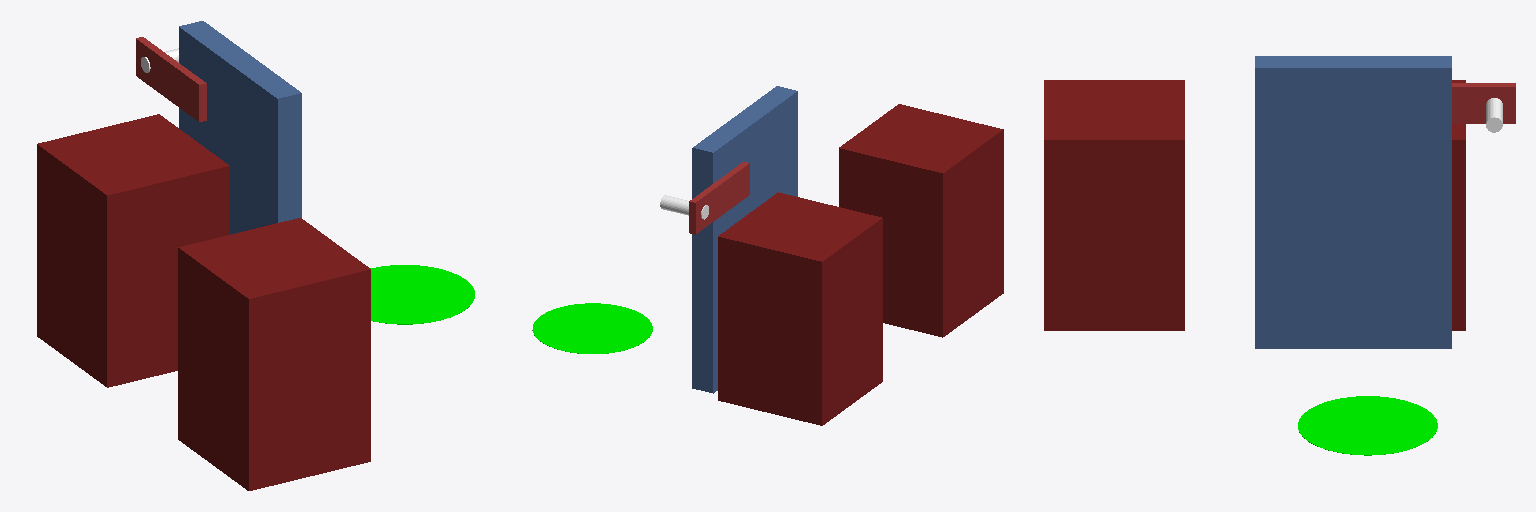
The robot description file, URDF, robot "room0":
<robot name="room0">
    <link name="base_link"/>

    <link name="room">
      <visual>
        <geometry>
          <mesh filename="[local-path]/rb_ws/robowflex/robowflex_dart/include/io/envs/room0/meshes/room.dae" scale=" 0.4 0.4 0.3"/>
        </geometry>
        <origin rpy="0 0 0" xyz="0 0 0"/>
      <material name="">
        <color rgba="0.94901960784 0.94901960784 0.94901960784 1"/>
      </material>
      </visual>

      <collision>
        <geometry>
          <mesh filename="[local-path]/rb_ws/robowflex/robowflex_dart/include/io/envs/room0/meshes/room.dae" scale=" 0.4 0.4 0.3"/>
        </geometry>
        <origin rpy="0 0 0" xyz="0 0 0"/>       
       </collision>
    </link>


        <link name="shelf">
      <visual>
        <geometry>
          <mesh filename="[local-path]/rb_ws/robowflex/robowflex_dart/include/io/envs/room0/meshes/shelf.dae" scale="0.042 0.05 0.04"/>
        </geometry>
        <origin rpy="0 0 0" xyz="0 0 0"/>
      
      <material name="">
        <color rgba="0.729411 0.549019 0.388235 1"/>
      </material>

      </visual>
      <collision>
        <geometry>
          <mesh filename="[local-path]/rb_ws/robowflex/robowflex_dart/include/io/envs/room0/meshes/shelf.dae" scale="0.042 0.05 0.04"/>
        </geometry>
        <origin rpy="0 0 0" xyz="0 0 0"/>       
       </collision>
    </link>


    <link name="desk">
      <visual>
        <geometry>
          <mesh filename="[local-path]/rb_ws/robowflex/robowflex_dart/include/io/envs/room0/meshes/desk2.dae" scale="0.01 0.01 0.020"/>
        </geometry>
        <origin rpy="0 0 0" xyz="0 0 0"/>
      
    <material name="">
        <color rgba="0.729411 0.549019 0.388235 1"/>
      </material>

      </visual>
      <collision>
        <geometry>
          <mesh filename="[local-path]/rb_ws/robowflex/robowflex_dart/include/io/envs/room0/meshes/desk2.dae" scale="0.01 0.01 0.020"/>
        </geometry>
        <origin rpy="0 0 0" xyz="0 0 0"/>       
       </collision>
    </link>



    <link name="sofa">
      <visual>
        <geometry>
          <mesh filename="[local-path]/rb_ws/robowflex/robowflex_dart/include/io/envs/room0/meshes/sofa.dae" scale="0.7 0.7 1"/>
        </geometry>
        <origin rpy="0 0 0" xyz="0 0 0"/>
      
      <material name="">
        <color rgba="0.70196 0.8 1 1"/>
      </material>

      </visual>
      <collision>
        <geometry>
          <mesh filename="[local-path]/rb_ws/robowflex/robowflex_dart/include/io/envs/room0/meshes/sofa.dae" scale="0.7 0.7 1"/>
        </geometry>
        <origin rpy="0 0 0" xyz="0 0 0"/>       
       </collision>
    </link>

    <link name="link_0_joint_0">
      <visual>
        <geometry>
          <box size="0.5 0.5 0.75"/>
        </geometry>
        <origin rpy="0 0 0" xyz="0 0 0"/>
          <material name="">
          <color rgba="0.541176 0.156862 0.156862 1.0"/>
      </material>
      </visual>
      <collision>
        <geometry>
          <box size="0.5 0.5 0.75"/>
        </geometry>
        <origin rpy="0 0 0" xyz="0 0 0"/>      
       </collision>
    </link>


    <link name="link_1_joint_0">
      <visual>
        <geometry>
          <box size="0.5 0.5 0.75"/>
        </geometry>
        <origin rpy="0 0 0" xyz="0 0 0"/>
       <material name="">
          <color rgba="0.541176 0.156862 0.156862 1.0"/>
      </material>
      </visual>
      <collision>
        <geometry>
          <box size="0.5 0.5 0.75"/>
        </geometry>
        <origin rpy="0 0 0" xyz="0 0 0"/>      
       </collision>
    </link>

     <link name="link_2_joint_0">
      <visual>
        <geometry>
          <box size="0.1 0.7 1.1"/>
        </geometry>
        <origin rpy="0 0 0" xyz="0.0 0.35 0"/>
        <material name="">
          <color rgba="0.349019 0.470588 0.650980 1.0"/>
      </material>
      </visual>
      <collision>
        <geometry>
          <box size="0.1 0.7 1.1"/>
        </geometry>
        <origin rpy="0 0 0" xyz="0.0 0.35 0"/>     
       </collision>
    </link>


     <link name="lock_part">
      <visual>
        <geometry>
          <cylinder radius="0.03" length="0.2"/>
        </geometry>
             <material name="">
          <color rgba="1 1 1 1.0"/>
      </material>
      </visual>
    </link>


     <link name="link_3_joint_0">
      <visual>
        <geometry>
          <box size="0.03 0.45 0.146"/>
        </geometry>
      <origin rpy="0 0 0" xyz="0 -0.15 0"/>
             <material name="">
          <color rgba="0.6901 0.2509 0.2509 1.0"/>
      </material>
      </visual>
      <collision>       
        <geometry>
          <box size="0.03 0.45 0.146"/>
        </geometry>
      <origin rpy="0 0 0" xyz="0 -0.15 0"/>
       </collision>
    </link>


<link name="cube1_y_axis"/>
<link name="cube2_y_axis"/>


  <joint name="link_0_joint_0" type="prismatic">
      <origin rpy="0 0 0" xyz="0.95 0.1 0.375"/>
      <parent link="base_link"/>
      <child link="cube1_y_axis"/>
      <axis xyz="0 1 0"/>
      <limit lower="-1.10" upper="0.96" effort="0.05" velocity="1.57"/>
  </joint>


  <joint name="link_0_joint_1" type="prismatic">
      <origin rpy="0 0 0" xyz="0 0 0"/>
      <parent link="cube1_y_axis"/>
      <child link="link_0_joint_0"/>
      <axis xyz="1 0 0"/>
      <limit lower="-1.5" upper="0.05" effort="0.05" velocity="1.57"/>
  </joint>



  <joint name="link_1_joint_0" type="prismatic">
      <origin rpy="0 0 0" xyz="0.95 -0.9 0.375"/>
      <parent link="base_link"/>
      <child link="cube2_y_axis"/>
      <axis xyz="0 1 0"/>
      <limit lower="-0.1" upper="1.90" effort="0.05" velocity="1.57"/>
  </joint>


  <joint name="link_1_joint_1" type="prismatic">
      <origin rpy="0 0 0" xyz="0 0 0"/>
      <parent link="cube2_y_axis"/>
      <child link="link_1_joint_0"/>
      <axis xyz="1 0 0"/>
      <limit lower="-1.5" upper="0.05" effort="0.05" velocity="1.57"/>
  </joint>


  <joint name="link_2_joint_0" type="revolute">
      <origin rpy="0 0 0" xyz="1.30 -0.4 0.55"/>
      <parent link="base_link"/>
      <child link="link_2_joint_0"/>
      <axis xyz="0 0 1"/>
      <limit lower="0" upper="1.57" effort="0.05" velocity="1.57"/>
  </joint>



 <joint name="link_3_joint_0" type="revolute">
      <origin rpy="0 0 0" xyz="1.22 0.45 0.90"/>
      <parent link="base_link"/>
      <child link="link_3_joint_0"/>
      <axis xyz="1 0 0"/>
      <limit lower="0" upper="1.57" effort="0.05" velocity="1.57"/>
  </joint>



  <joint name="desk_joint" type="fixed">
      <origin rpy="0 0 1.57" xyz="0.30 0.6 0.0"/>
      <parent link="base_link"/>
      <child link="desk"/>
      <axis xyz="0 0 1"/>
  </joint>


<joint name="room_j" type="fixed">
    <origin rpy="0 0 -1.57" xyz="0 0 0.0"/>
    <parent link="base_link"/>
    <child link="room"/>
    <axis xyz="0 1 0"/>
  </joint>

<joint name="shelf_j" type="fixed">
    <origin rpy="0 0 -1.57" xyz="1.1 0.9 0.0"/>
    <parent link="base_link"/>
    <child link="shelf"/>
    <axis xyz="0 1 0"/>
  </joint>


  <joint name="lock_part_j" type="fixed">
    <origin rpy="0 1.57 0" xyz="1.3 0.45 0.9"/>
      <parent link="base_link"/>
      <child link="lock_part"/>
      <axis xyz="0.0 0.0 1"/>
  </joint>

<joint name="sofa_joint" type="fixed">
        <origin rpy="0 0 1.57" xyz="-0.90 -0.2 0.0"/>
        <parent link="base_link"/>
        <child link="sofa"/>
        <axis xyz="0 0 1"/>
        <limit lower="-1.57" upper="1.57" effort="0.05" velocity="1.57"/>
    </joint>


  <link name="goal">
    <visual>
         <origin xyz="0 0 0" rpy="0 0 0"/>
        <geometry>
          <cylinder radius="0.25" length="0.001"/>
        </geometry>
        <material name="">
          <color rgba="0 1 0 1.0"/>
        </material>
      </visual>
</link>

<joint name="goal" type="fixed">
  <origin rpy="0 0 0" xyz="2.0 0.0 0.0"/>
  <parent link="base_link"/>
    <child link="goal"/>
</joint>



</robot>

--- Render facts (derived) ---
3 views of the same robot in one strip: view 1: azimuth 30°, elevation 25°; view 2: azimuth 150°, elevation 25°; view 3: azimuth 270°, elevation 25° (orthographic).
Robot: room0 — 13 links, 12 joints (2 revolute, 4 prismatic, 6 fixed); root link base_link; default pose: all joints at 0.
Visible links, largest first — view 1: link_1_joint_0, link_0_joint_0, link_2_joint_0, goal, link_3_joint_0; view 2: link_0_joint_0, link_1_joint_0, link_2_joint_0, goal, link_3_joint_0; view 3: link_2_joint_0, link_1_joint_0, goal, link_0_joint_0, link_3_joint_0, lock_part.
Link boxes in pixels (left/top/right/bottom): link_1_joint_0: left=178, top=218, right=370, bottom=490; link_0_joint_0: left=37, top=114, right=229, bottom=387; link_2_joint_0: left=179, top=21, right=301, bottom=234; goal: left=370, top=265, right=474, bottom=324; link_3_joint_0: left=136, top=37, right=206, bottom=121; link_0_joint_0: left=718, top=192, right=882, bottom=425; link_1_joint_0: left=839, top=104, right=1003, bottom=337; link_2_joint_0: left=692, top=86, right=797, bottom=393; goal: left=532, top=303, right=652, bottom=353; link_3_joint_0: left=689, top=162, right=749, bottom=234; link_2_joint_0: left=1255, top=56, right=1451, bottom=348; link_1_joint_0: left=1044, top=80, right=1184, bottom=330; goal: left=1298, top=396, right=1437, bottom=455; link_0_joint_0: left=1452, top=80, right=1465, bottom=330; link_3_joint_0: left=1452, top=83, right=1515, bottom=123; lock_part: left=1486, top=98, right=1502, bottom=132.
Bounding box of the posed robot: 1.55 × 1.68 × 1.1 m (x, y, z).
Geometry: only primitive shapes (box / cylinder / sphere) drawn; not drawn: 4 mesh visuals (reference in a form the renderer does not follow).